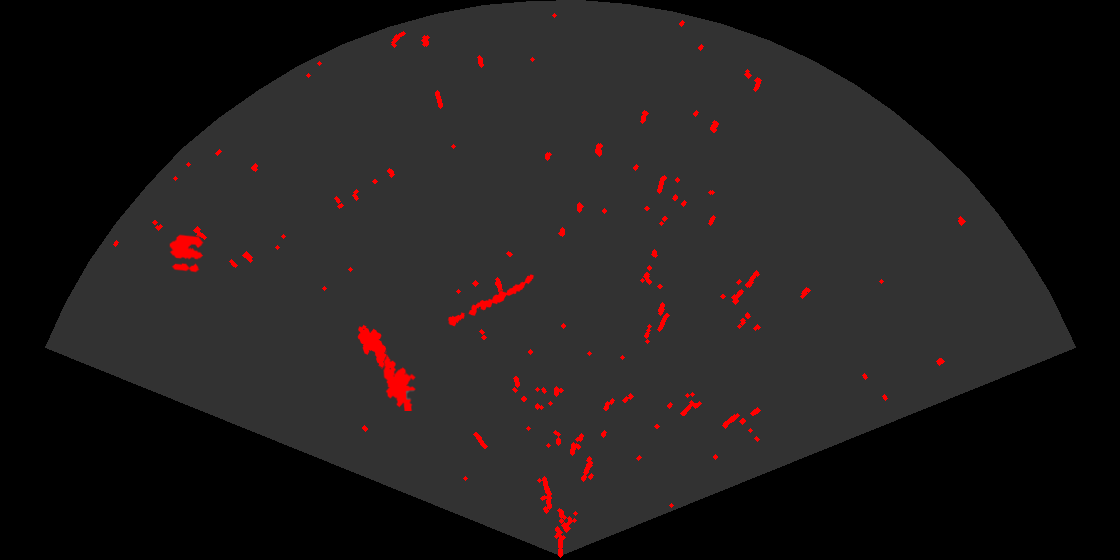AUV: (356, 323, 388, 369)
ball: (168, 233, 205, 274)
chain: (446, 273, 535, 328)
frogman: (373, 339, 417, 411)
